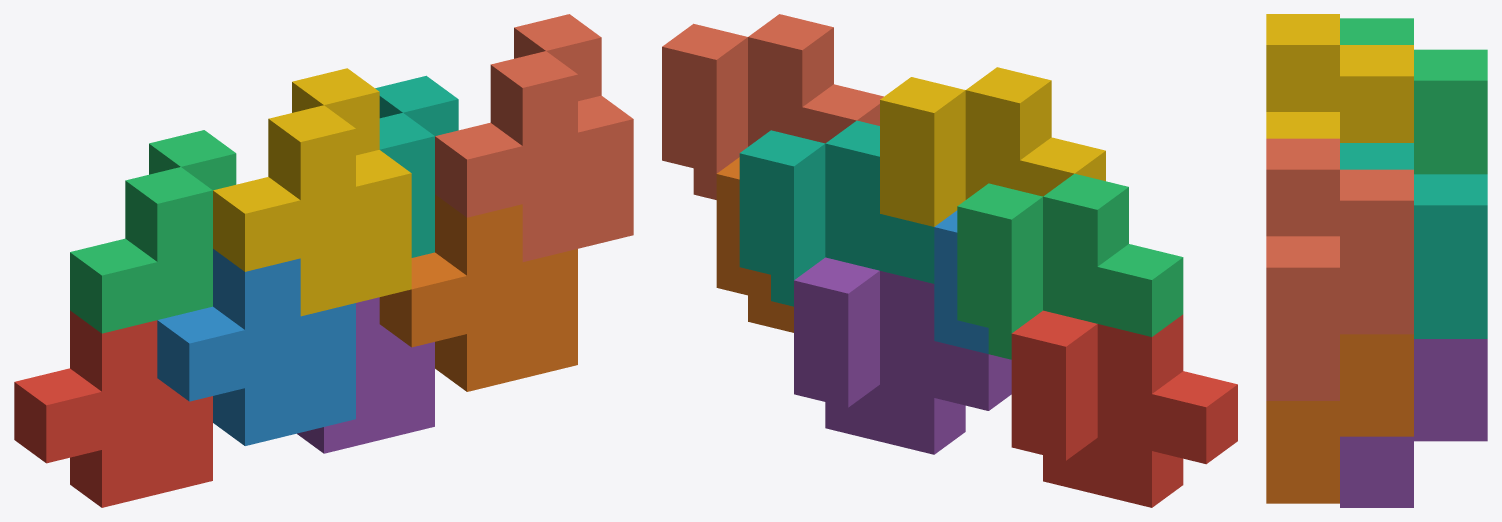
The model's file is tiling.obj.
The picture shows the model from 3 angles, left to right: view 1: azimuth 30°, elevation 25°; view 2: azimuth 150°, elevation 25°; view 3: azimuth 270°, elevation 25°; orthographic projection. The views are drawn at different scales.
Visible parts, largest first — view 1: copy_1_domain_8, copy_1_domain_4, copy_1_domain_2, copy_1_domain_6, copy_1_domain_1, copy_1_domain_3, copy_1_domain_5, copy_1_domain_7; view 2: copy_1_domain_1, copy_1_domain_3, copy_1_domain_5, copy_1_domain_8, copy_1_domain_4, copy_1_domain_7, copy_1_domain_6, copy_1_domain_2; view 3: copy_1_domain_8, copy_1_domain_4, copy_1_domain_6, copy_1_domain_7, copy_1_domain_5, copy_1_domain_3.
Boxes of the visible parts, x1,y1,x2,y2 form: copy_1_domain_8: (435, 14, 633, 261); copy_1_domain_4: (213, 68, 411, 316); copy_1_domain_2: (157, 249, 355, 445); copy_1_domain_6: (379, 194, 577, 391); copy_1_domain_1: (14, 310, 212, 507); copy_1_domain_3: (70, 130, 236, 333); copy_1_domain_5: (297, 297, 434, 453); copy_1_domain_7: (375, 75, 458, 257); copy_1_domain_1: (1011, 310, 1237, 507); copy_1_domain_3: (957, 173, 1183, 359); copy_1_domain_5: (794, 257, 1011, 454); copy_1_domain_8: (662, 14, 883, 199); copy_1_domain_4: (880, 67, 1105, 226); copy_1_domain_7: (739, 120, 934, 306); copy_1_domain_6: (716, 157, 793, 332); copy_1_domain_2: (934, 210, 988, 353); copy_1_domain_8: (1266, 138, 1413, 400); copy_1_domain_4: (1266, 14, 1413, 142); copy_1_domain_6: (1266, 334, 1413, 503); copy_1_domain_7: (1340, 143, 1487, 338); copy_1_domain_5: (1340, 339, 1487, 507); copy_1_domain_3: (1340, 18, 1487, 174).
Bounding box in the file's own units: 10 × 6 × 3.
